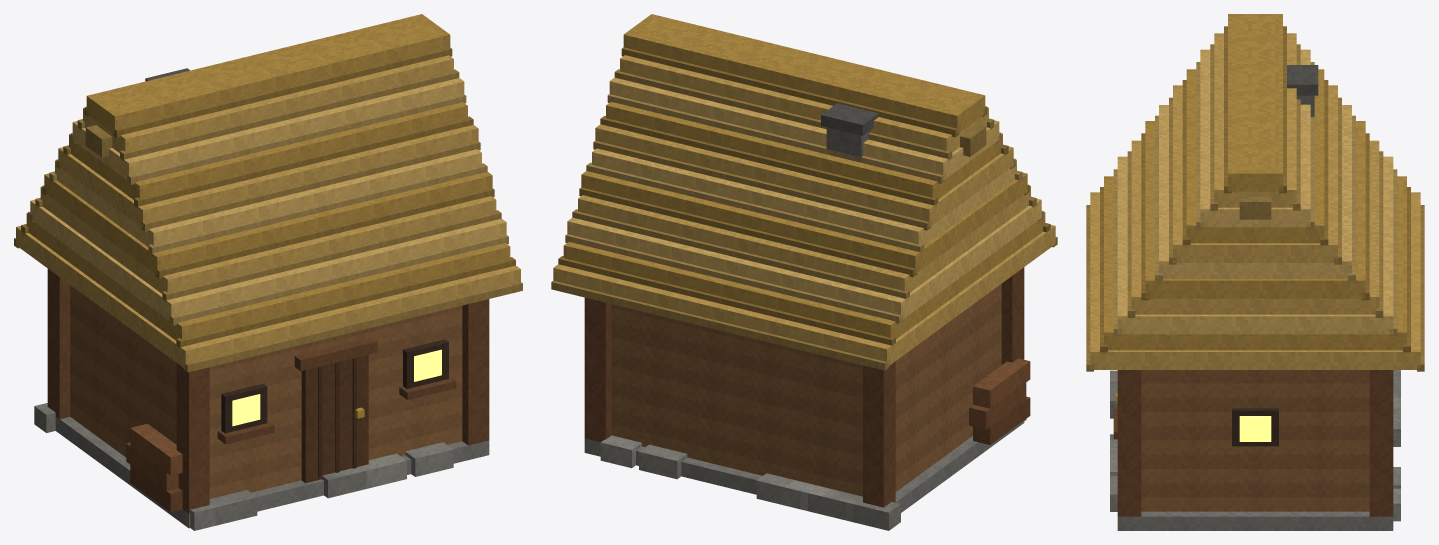
File: hut.glb
The picture shows the model from 3 angles, left to right: view 1: azimuth 30°, elevation 25°; view 2: azimuth 150°, elevation 25°; view 3: azimuth 270°, elevation 25°; orthographic projection. The views are drawn at different scales.
Visible parts, largest first — view 1: Hut; view 2: Hut; view 3: Hut.
Part boxes in pixels (x1=…): Hut: x1=14, y1=14, x2=522, y2=530; Hut: x1=551, y1=14, x2=1057, y2=530; Hut: x1=1086, y1=14, x2=1424, y2=530.
Size of the model in its own units: 5 by 5.12 by 4.3.
Materials: 35 (35 with a texture image).
